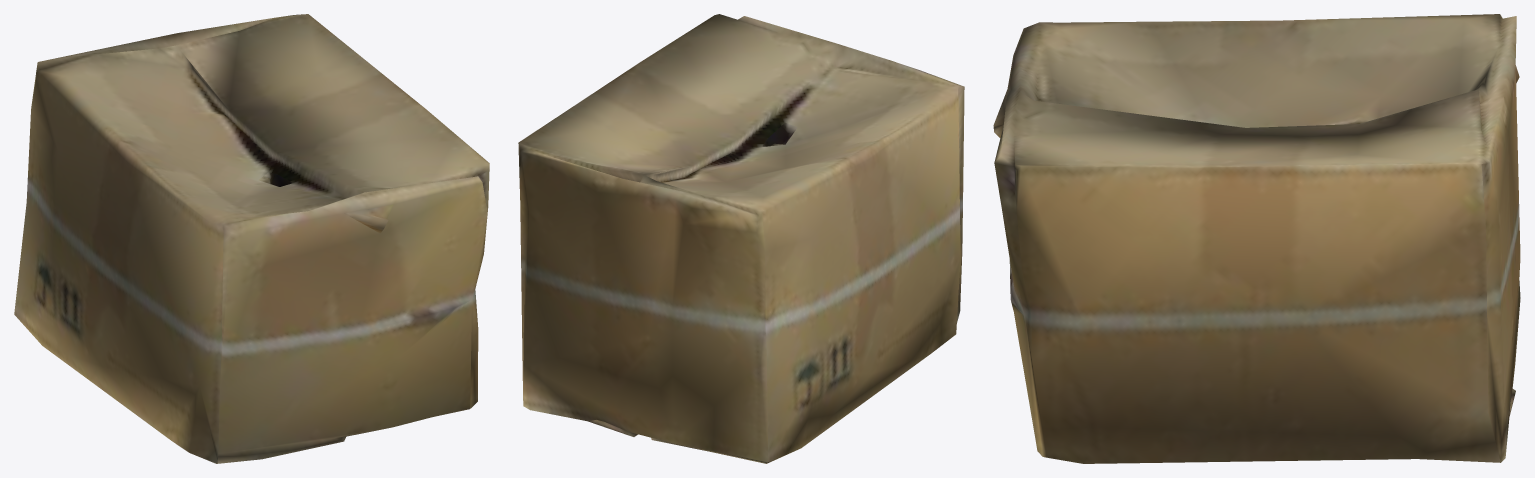
The model's file is cardboard_box_01.glb.
3 views of the same model, side by side, from view 1: azimuth 30°, elevation 25°; view 2: azimuth 150°, elevation 25°; view 3: azimuth 270°, elevation 25° (orthographic). The views are drawn at different scales.
Visible parts, largest first — view 1: cardboard_box_01; view 2: cardboard_box_01; view 3: cardboard_box_01.
Part boxes in pixels (x1,y1,x2,y2): cardboard_box_01: [14, 14, 489, 463]; cardboard_box_01: [518, 14, 964, 463]; cardboard_box_01: [993, 14, 1520, 463].
Bounding box in the file's own units: 0.3827 × 0.3358 × 0.5159.
1 material, 1 textured.
